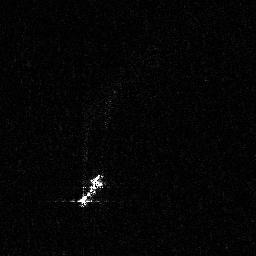ship: (54, 170, 107, 212)
